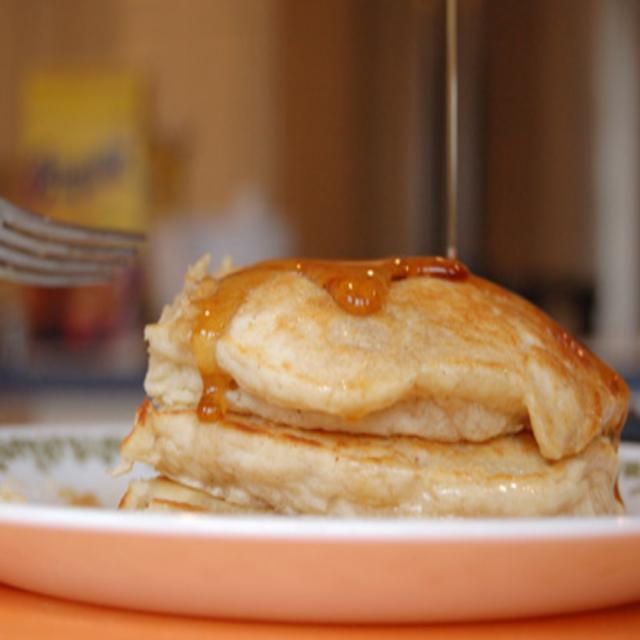Pancake: (111, 344, 631, 514), (146, 257, 623, 433)
